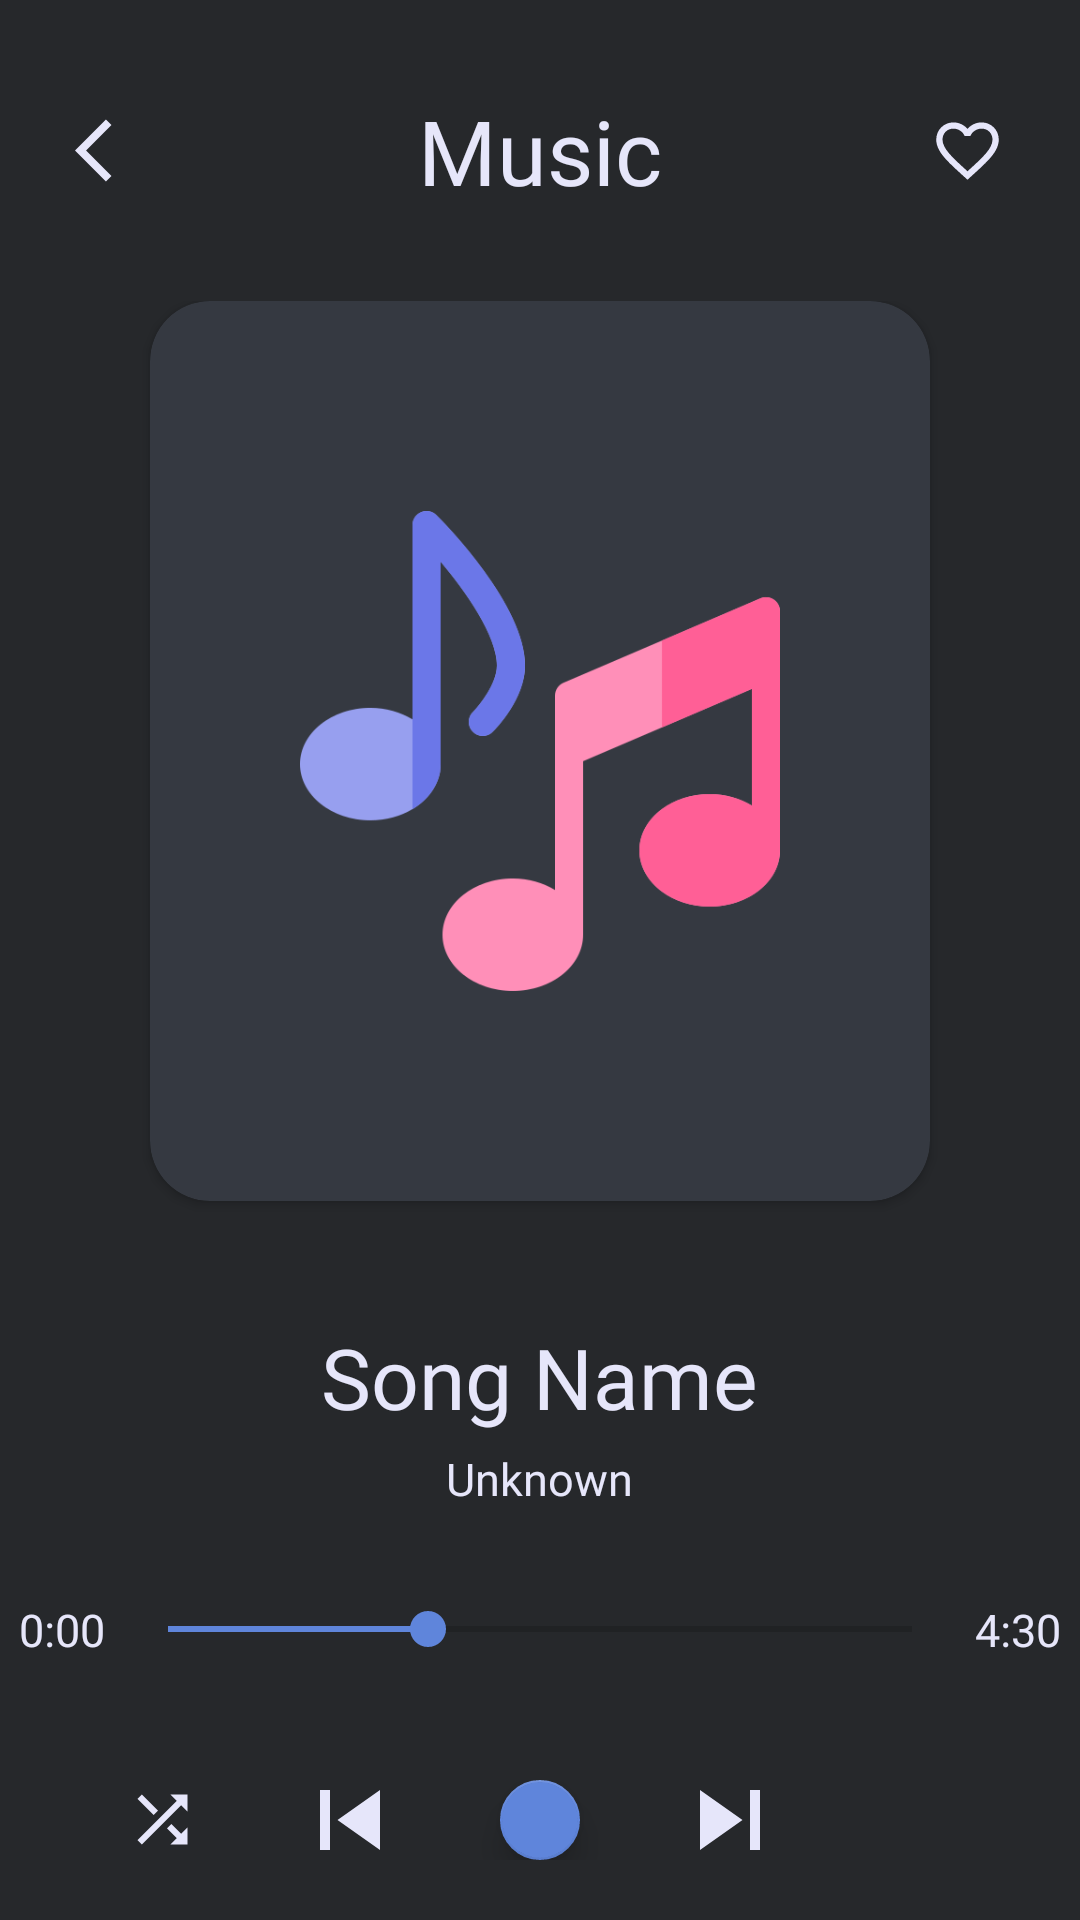

Where icons sit on this 1080 x 1920 app screen, as [x1, y1, x2, y2]:
back: [75, 119, 111, 182]
favorite: [936, 122, 999, 180]
shuffle: [137, 1794, 188, 1845]
